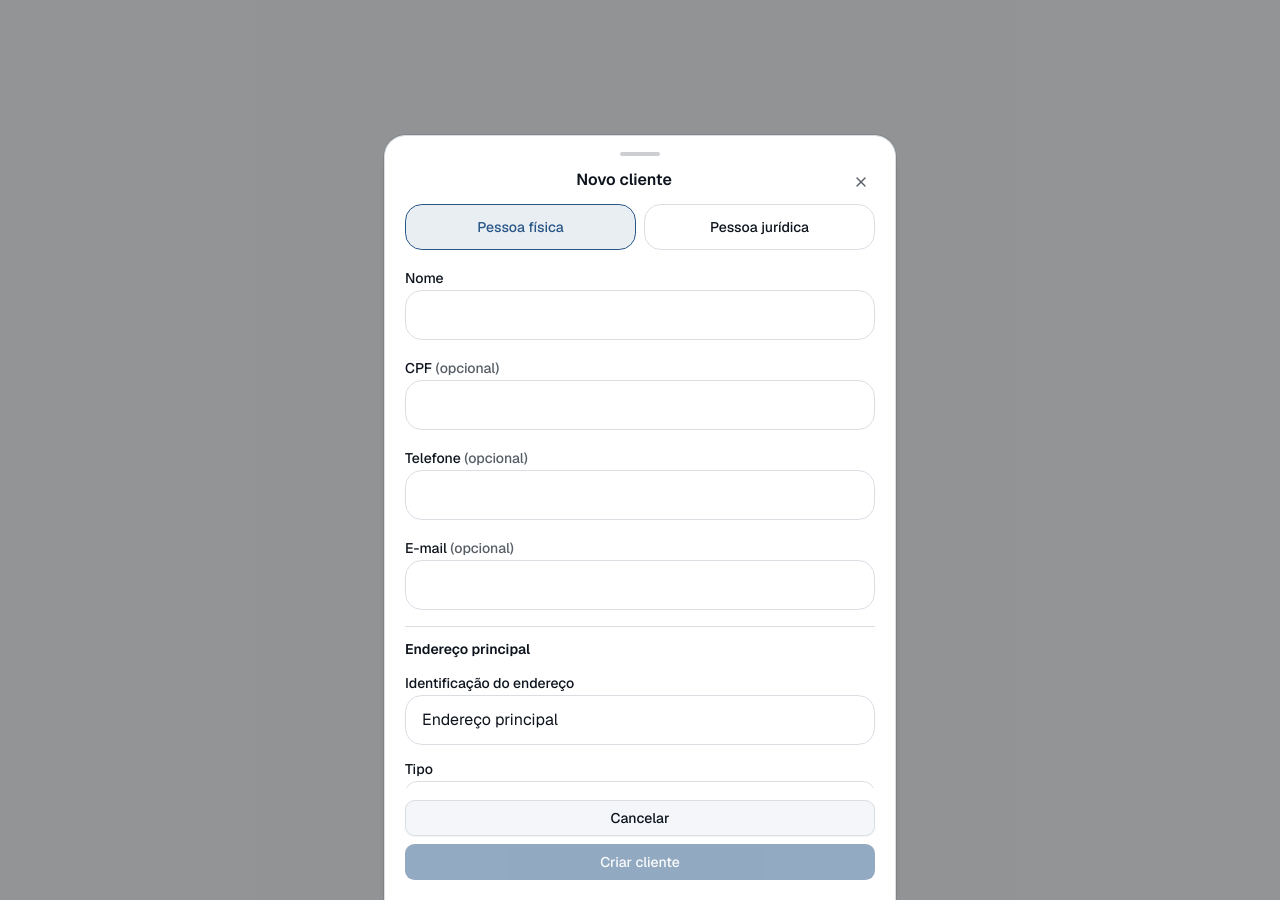
Test: QuickCustomerDialog › QC6: CNPJ lookup's phone never shows the old '(55)...' bug — the country code is stripped, not read as a DDD
Click the button "Pessoa jurídica" at (760, 227), box [644,204,875,250]
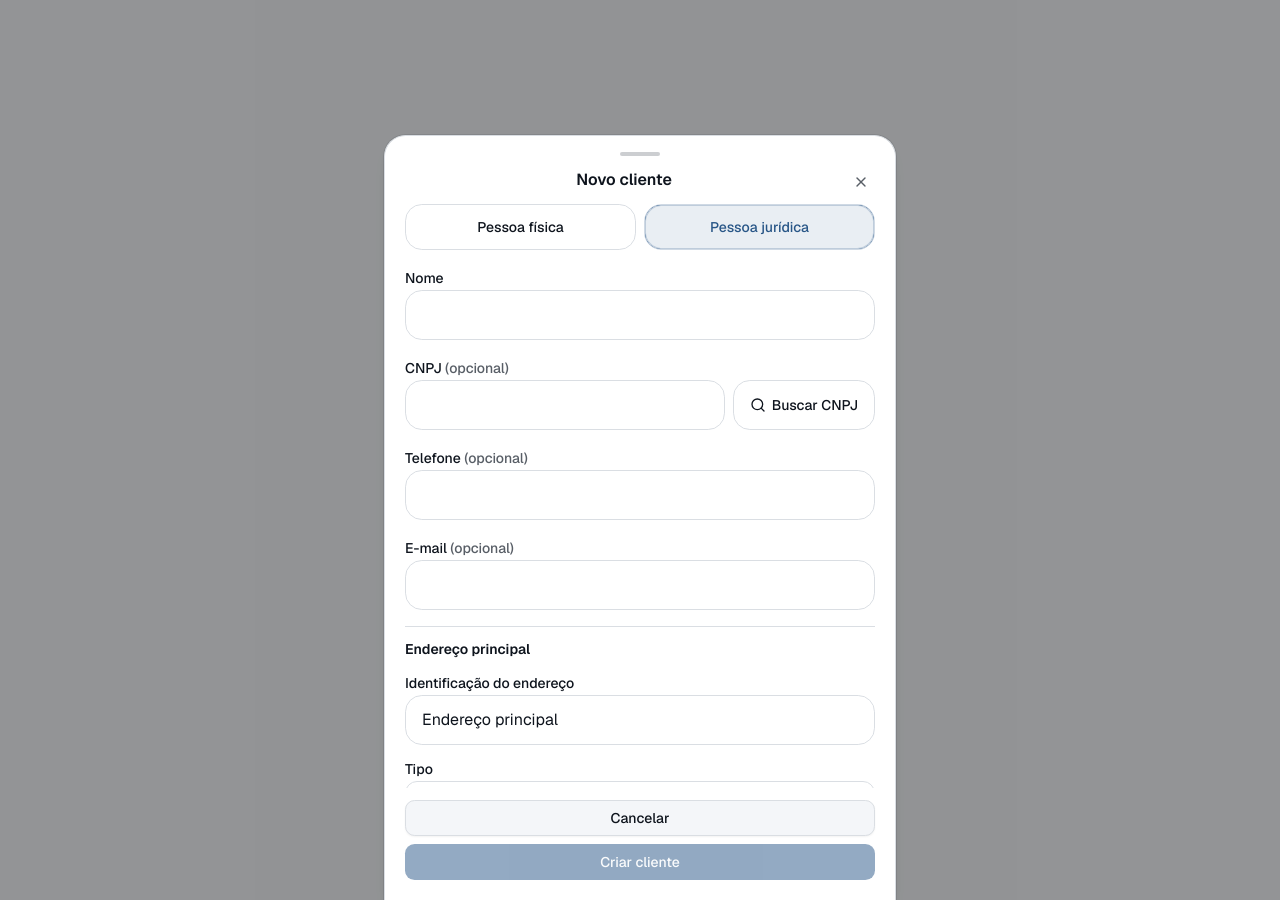
Type "12345678000199" into the field labelled "CNPJ (opcional)" at (565, 405), box [405,380,725,430]
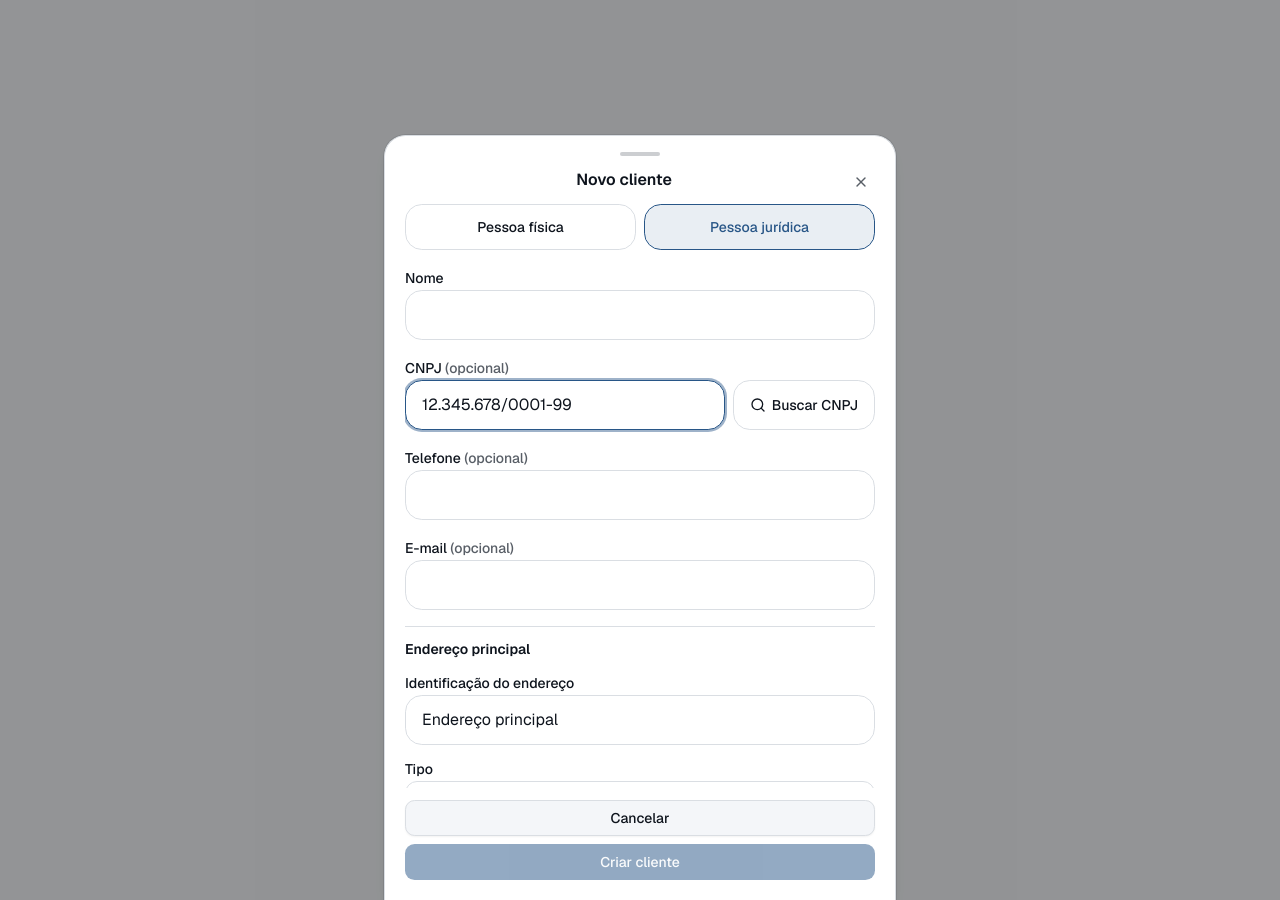
Click the button "Buscar CNPJ" at (804, 405), box [733,380,875,430]
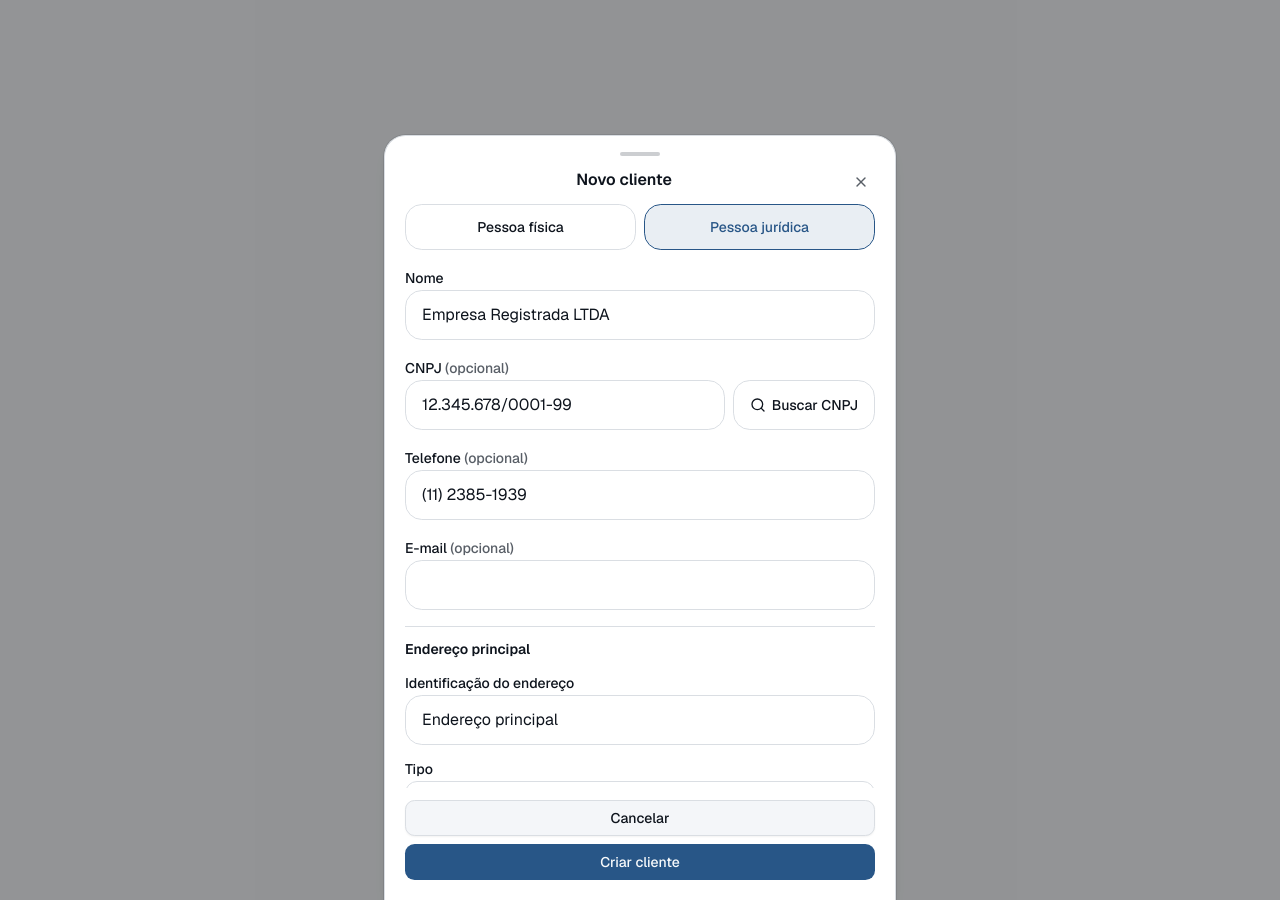
Expected: the field labelled "Telefone (opcional)" holds "(11) 2385-1939", [405,470,875,520]
